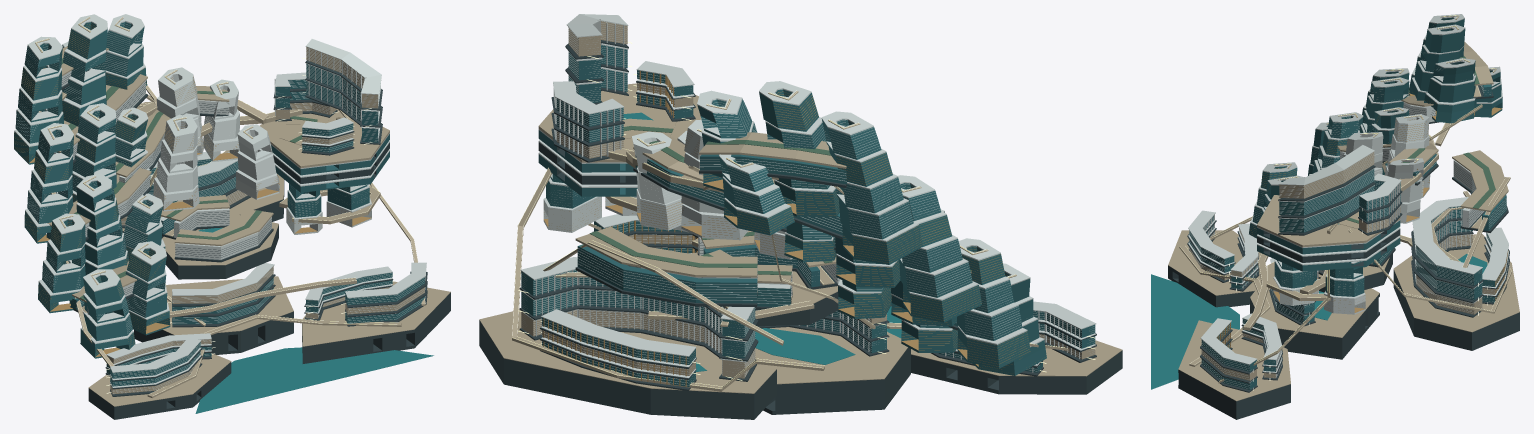
The model's file is R19_LIVING_HORIZON.glb.
3 views of the same model, side by side, from view 1: azimuth 30°, elevation 25°; view 2: azimuth 150°, elevation 25°; view 3: azimuth 270°, elevation 25° (orthographic). The views are drawn at different scales.
Parts seen in each view (by area): view 1: A_INLAND_SEA, A_EAST_deep_public_land, A_EAST_public_surface, H_CONTINUOUS_TOP_GROUND, A_INNER_deep_public_land, A_WEST_deep_public_land, A_WEST_public_surface, A_INNER_public_surface, F_INNER_CITY_deep_public_land, F_PUBLIC_ISTHMUS_shared_roof_land, F_PUBLIC_ISTHMUS_outer_urban_shore, A_PUBLIC_CAUSEWAY_public_deck (+76 smaller); view 2: C_REAR_DELTA_deep_public_land, C_REAR_DELTA_public_surface, N_REAR_HIGH_CITY_inner_urban_shore, A_INNER_deep_public_land, A_WEST_deep_public_land, A_INNER_public_surface, C_REAR_CIVILIZATION_inhabited_depth_1, N_REAR_HIGH_CITY_shared_roof_land, C_REAR_CIVILIZATION_inhabited_depth_0, T_REAR_LINK_public_deck, A_PUBLIC_RESERVOIR, A_WEST_public_surface (+77 smaller); view 3: A_INLAND_SEA, C_REAR_DELTA_public_surface, A_EAST_public_surface, C_REAR_DELTA_deep_public_land, A_INNER_deep_public_land, A_EAST_deep_public_land, A_WEST_public_surface, H_CONTINUOUS_TOP_GROUND, A_INNER_public_surface, C_REAR_CIVILIZATION_roof_avenue_2, N_REAR_HIGH_CITY_shared_roof_land, H_EASTERN_RIDGE_inhabited_depth_1 (+50 smaller).
Part boxes in pixels (bbox=[...]): A_INLAND_SEA: bbox=[195, 347, 433, 413]; A_EAST_deep_public_land: bbox=[302, 292, 450, 363]; A_EAST_public_surface: bbox=[302, 281, 450, 346]; H_CONTINUOUS_TOP_GROUND: bbox=[259, 109, 389, 167]; A_INNER_deep_public_land: bbox=[134, 311, 293, 354]; A_WEST_deep_public_land: bbox=[88, 362, 231, 419]; A_WEST_public_surface: bbox=[88, 353, 231, 406]; A_INNER_public_surface: bbox=[162, 276, 293, 335]; F_INNER_CITY_deep_public_land: bbox=[166, 225, 278, 279]; F_PUBLIC_ISTHMUS_shared_roof_land: bbox=[174, 209, 273, 246]; F_PUBLIC_ISTHMUS_outer_urban_shore: bbox=[175, 217, 271, 259]; A_PUBLIC_CAUSEWAY_public_deck: bbox=[147, 315, 401, 397]; C_REAR_DELTA_deep_public_land: bbox=[479, 320, 776, 419]; C_REAR_DELTA_public_surface: bbox=[479, 309, 776, 393]; N_REAR_HIGH_CITY_inner_urban_shore: bbox=[577, 244, 757, 303]; A_INNER_deep_public_land: bbox=[763, 347, 910, 414]; A_WEST_deep_public_land: bbox=[911, 350, 1122, 394]; A_INNER_public_surface: bbox=[755, 327, 907, 384]; C_REAR_CIVILIZATION_inhabited_depth_1: bbox=[521, 289, 755, 358]; N_REAR_HIGH_CITY_shared_roof_land: bbox=[575, 226, 757, 277]; C_REAR_CIVILIZATION_inhabited_depth_0: bbox=[521, 309, 755, 378]; T_REAR_LINK_public_deck: bbox=[512, 168, 824, 391]; A_PUBLIC_RESERVOIR: bbox=[755, 328, 855, 364]; A_WEST_public_surface: bbox=[911, 340, 1122, 376]; A_INLAND_SEA: bbox=[1151, 274, 1239, 389]; C_REAR_DELTA_public_surface: bbox=[1393, 234, 1519, 332]; A_EAST_public_surface: bbox=[1178, 320, 1290, 401]; C_REAR_DELTA_deep_public_land: bbox=[1393, 270, 1519, 350]; A_INNER_deep_public_land: bbox=[1250, 293, 1379, 359]; A_EAST_deep_public_land: bbox=[1178, 370, 1290, 419]; A_WEST_public_surface: bbox=[1168, 230, 1261, 295]; H_CONTINUOUS_TOP_GROUND: bbox=[1257, 195, 1400, 247]; A_INNER_public_surface: bbox=[1250, 283, 1379, 337]; C_REAR_CIVILIZATION_roof_avenue_2: bbox=[1412, 197, 1482, 274]; N_REAR_HIGH_CITY_shared_roof_land: bbox=[1452, 150, 1508, 211]; H_EASTERN_RIDGE_inhabited_depth_1: bbox=[1279, 169, 1374, 215].
Bounding box in the file's own units: 6100 × 4373 × 5400.
